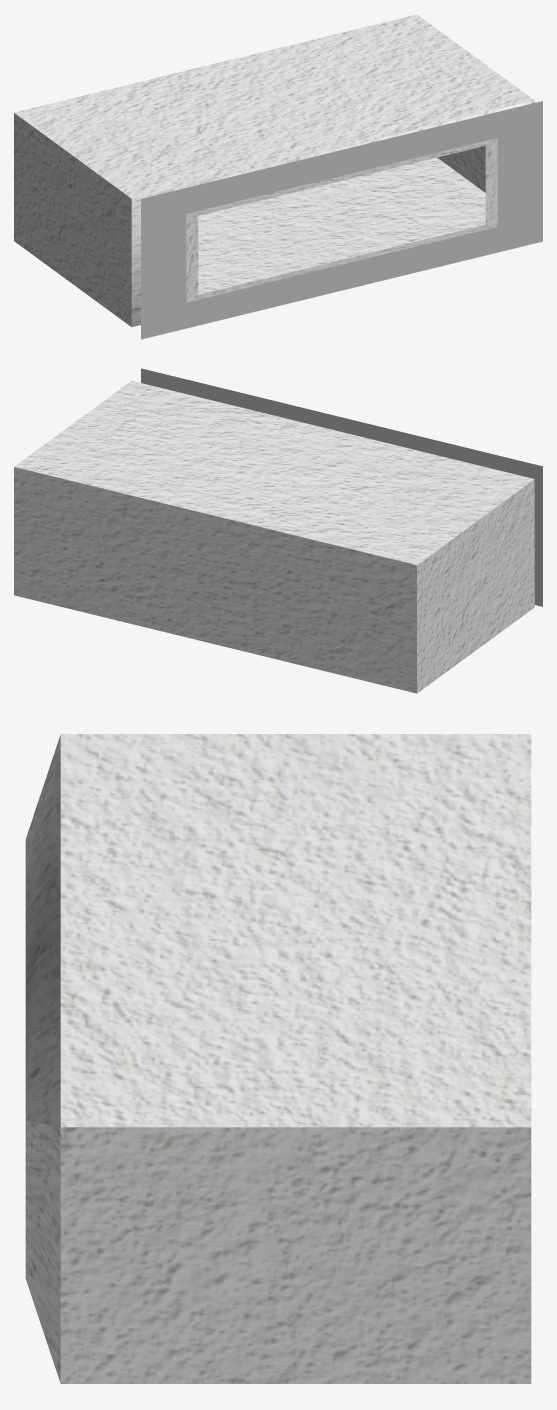
The model's file is OR_Ventilation_Ground.fbx.
3 renders of one model, top to bottom at view 1: azimuth 30°, elevation 25°; view 2: azimuth 150°, elevation 25°; view 3: azimuth 270°, elevation 25°, orthographic. The views are drawn at different scales.
Parts seen in each view (by area): view 1: OR_Ventilation_Ground; view 2: OR_Ventilation_Ground; view 3: OR_Ventilation_Ground.
Boxes of the visible parts, bbox=[...] form: OR_Ventilation_Ground: bbox=[14, 14, 542, 339]; OR_Ventilation_Ground: bbox=[14, 368, 542, 693]; OR_Ventilation_Ground: bbox=[25, 734, 531, 1383].
Bounding box in the file's own units: 75.72 × 25.26 × 41.17.
